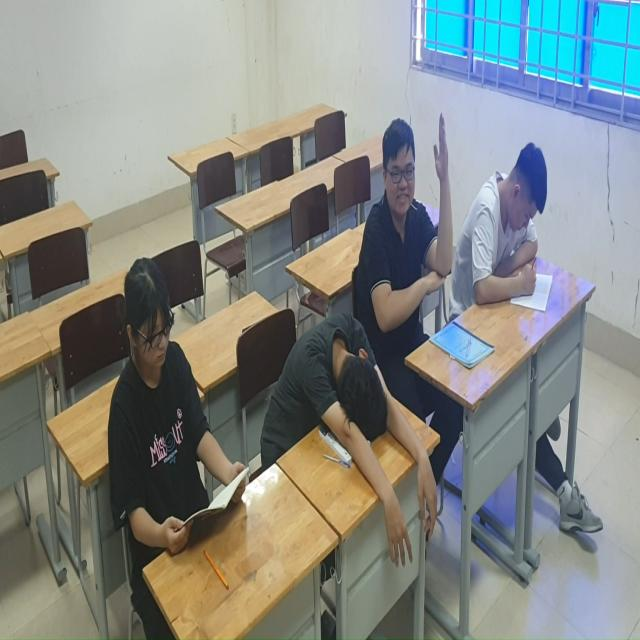raise_hand: (363, 107, 455, 319)
read: (102, 231, 271, 571), (463, 130, 564, 319)
sleep: (267, 312, 436, 546)
